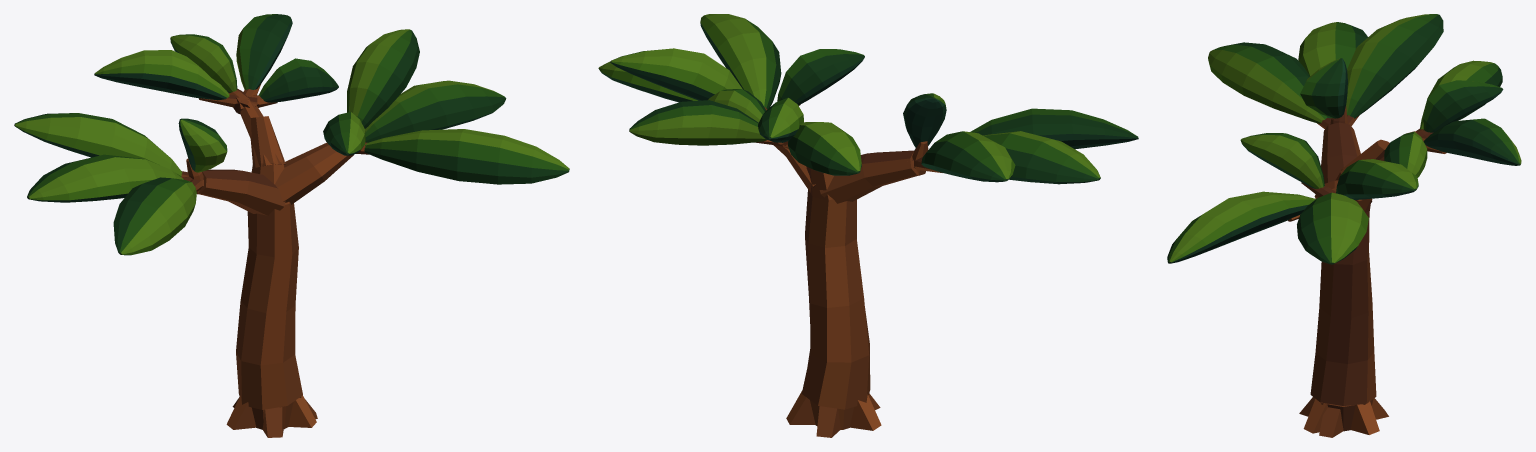
3 views of the same model, side by side, from view 1: azimuth 30°, elevation 25°; view 2: azimuth 150°, elevation 25°; view 3: azimuth 270°, elevation 25° (orthographic). The views are drawn at different scales.
Visible parts, largest first — view 1: CanopyLeaves, CanopyStructure; view 2: CanopyLeaves, CanopyStructure; view 3: CanopyLeaves, CanopyStructure.
Part boxes in pixels (left/top/right/bottom): CanopyLeaves: left=14, top=14, right=569, bottom=255; CanopyStructure: left=181, top=84, right=368, bottom=437; CanopyLeaves: left=598, top=14, right=1138, bottom=184; CanopyStructure: left=754, top=104, right=942, bottom=437; CanopyLeaves: left=1167, top=14, right=1521, bottom=264; CanopyStructure: left=1288, top=106, right=1446, bottom=437.
Size of the model in its own units: 5.55 by 3.82 by 3.65.
Materials: 1 (1 with a texture image).
